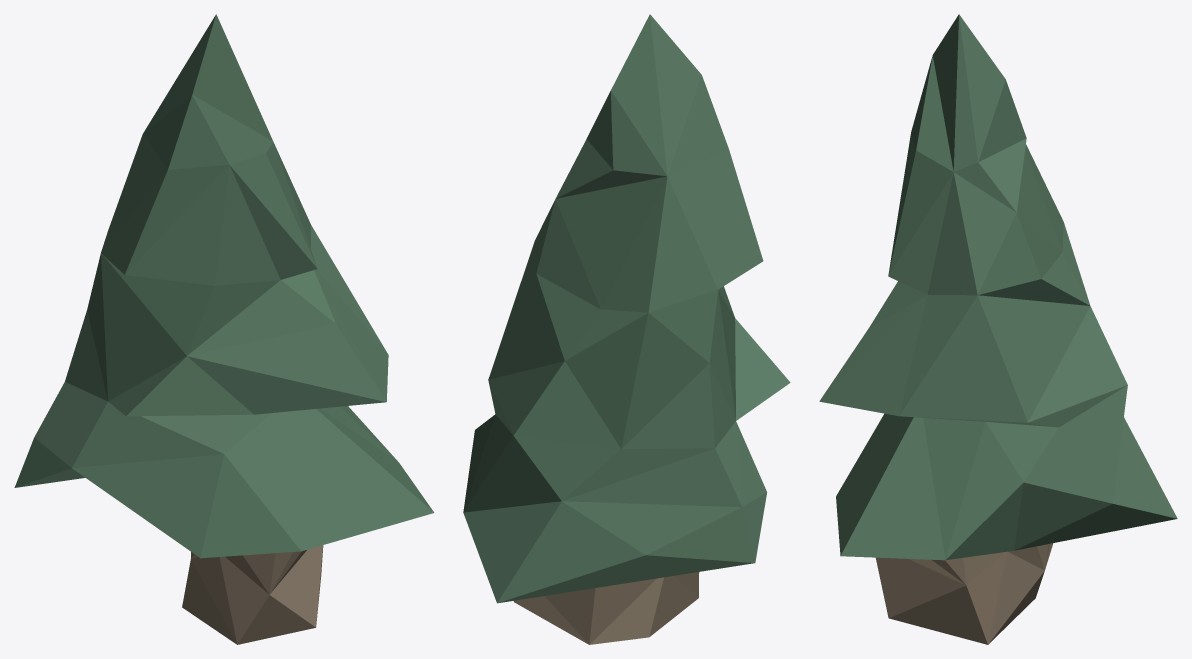
Rendered from TreePine_02.FBX.
The picture shows the model from 3 angles, left to right: view 1: azimuth 30°, elevation 25°; view 2: azimuth 150°, elevation 25°; view 3: azimuth 270°, elevation 25°; orthographic projection. The views are drawn at different scales.
Visible parts, largest first — view 1: TreePine_002; view 2: TreePine_002; view 3: TreePine_002.
Part boxes in pixels (x1=…): TreePine_002: x1=14, y1=14, x2=434, y2=644; TreePine_002: x1=463, y1=14, x2=790, y2=644; TreePine_002: x1=819, y1=14, x2=1177, y2=644.
Size of the model in its own units: 1.39 by 1.38 by 2.44.
